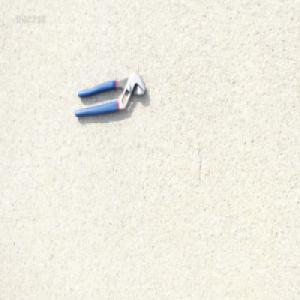Pliers: (72, 70, 146, 119)
